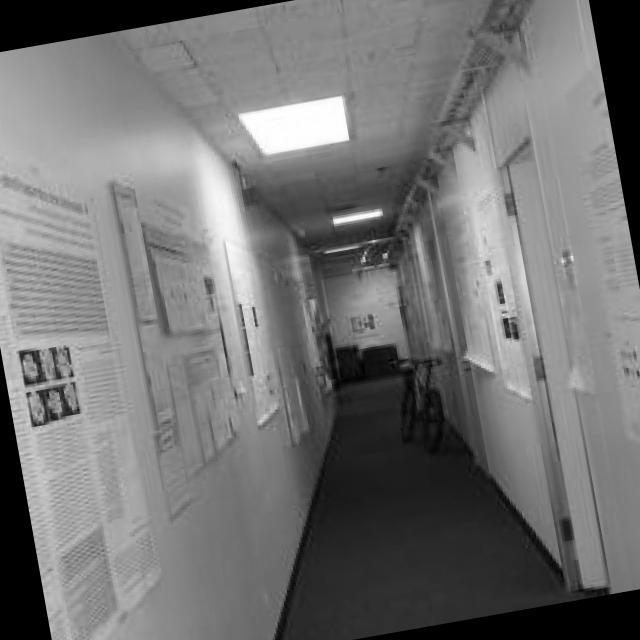ceiling beam: (114, 0, 533, 259)
desk calendar: (335, 339, 401, 378)
door bars: (501, 133, 611, 586)
floor -X: (274, 365, 611, 640)
light fixture: (237, 92, 351, 154), (335, 205, 385, 223)
poster crop: (0, 154, 166, 640), (110, 182, 247, 526), (565, 63, 640, 444), (469, 182, 534, 399), (224, 238, 288, 427), (448, 205, 494, 371)
wall clock: (0, 32, 335, 640), (400, 0, 640, 591), (315, 244, 414, 378)
